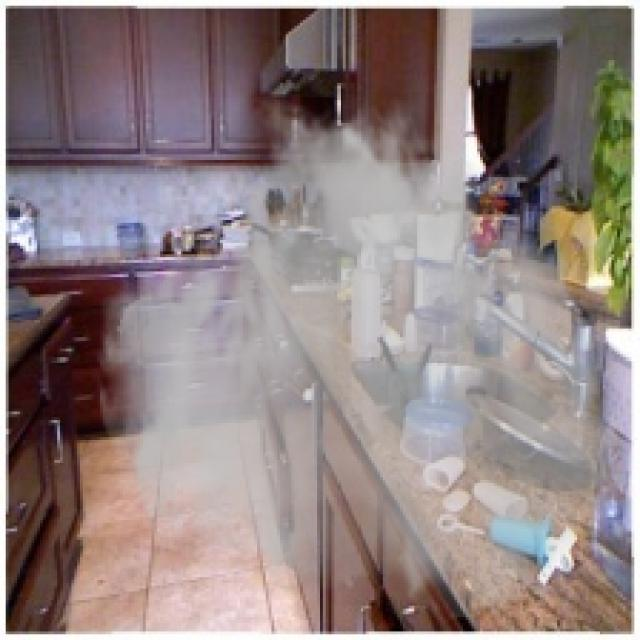smoke: (91, 86, 626, 623)
